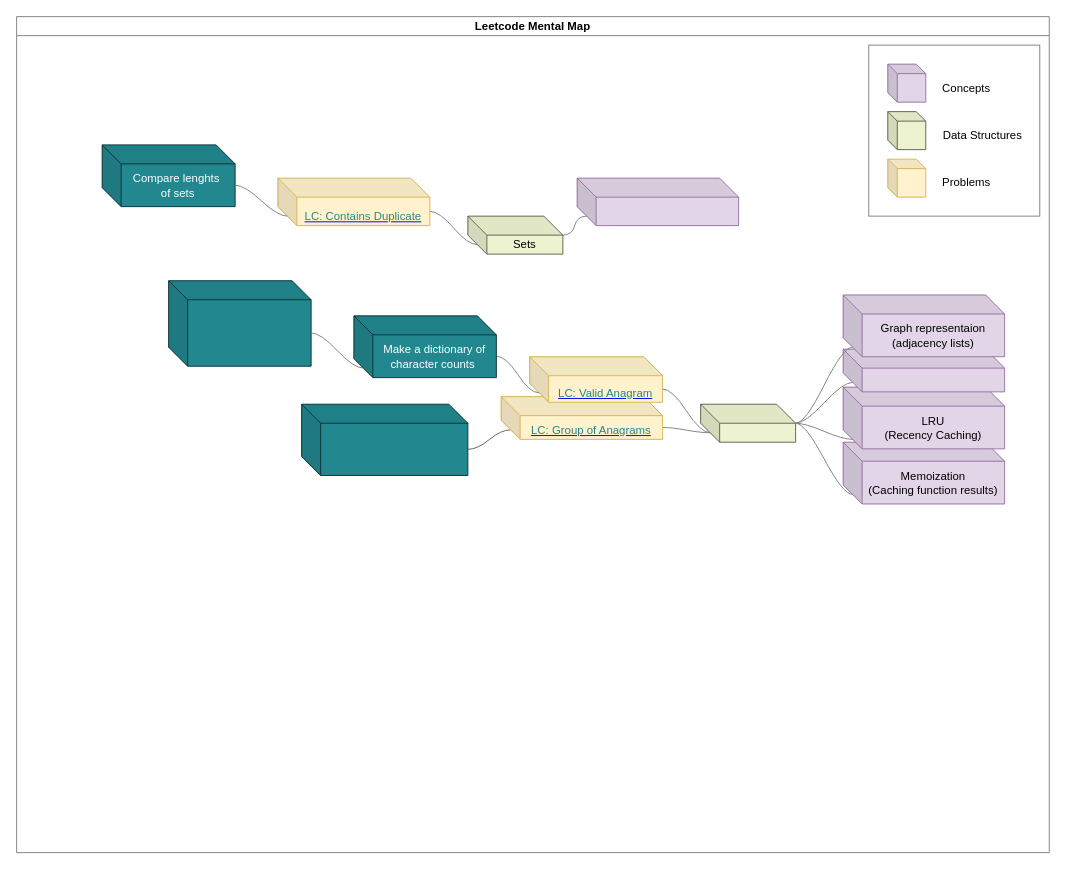
The diagram is 1066 pixels wide and 869 high, and some of its shapes have lost their labels. Here are the shapes that lost their labels. From the top down, the centre of each, then its label:
At point 657,201: "Uniqueness checking".
At point 239,323: "Comparizon between dictionaries in Python can be done using ==".
At point 923,370: "Character counting".
At point 384,439: "Manual hashmaps? An array of on 24bits".
At point 748,422: "Dictionaries".
